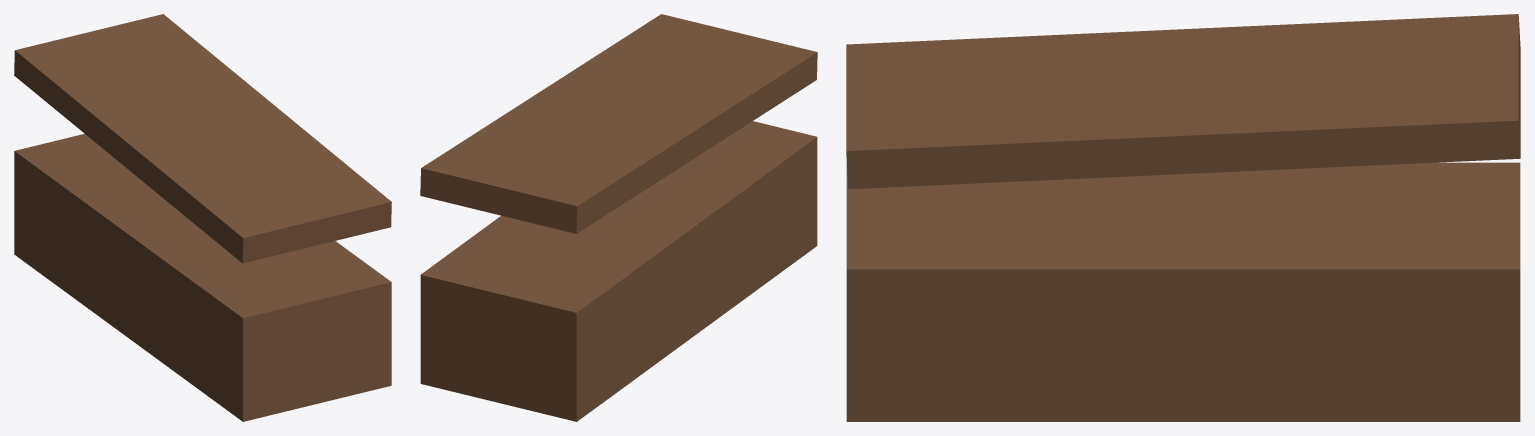
Rendered from coffin.glb.
The picture shows the model from 3 angles, left to right: view 1: azimuth 30°, elevation 25°; view 2: azimuth 150°, elevation 25°; view 3: azimuth 270°, elevation 25°; orthographic projection. The views are drawn at different scales.
Visible parts, largest first — view 1: CoffinLid; view 2: CoffinLid; view 3: CoffinLid.
Boxes of the visible parts, x1=… form: CoffinLid: x1=14, y1=14, x2=391, y2=421; CoffinLid: x1=420, y1=14, x2=817, y2=421; CoffinLid: x1=846, y1=14, x2=1520, y2=421.
Size of the model in its own units: 0.3 by 0.395 by 0.8015.
